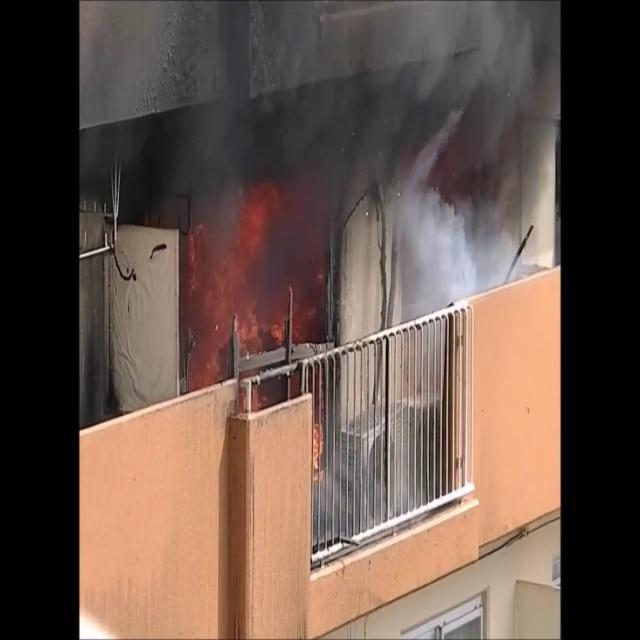Smoke: (85, 2, 559, 290)
